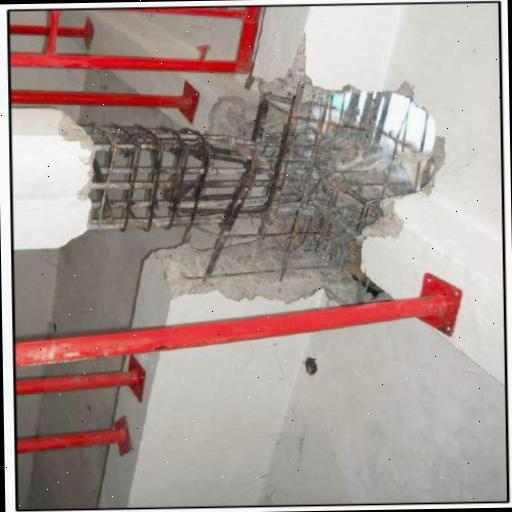spalling: (68, 120, 378, 242)
